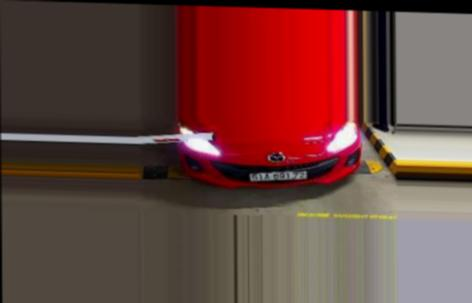License_Plate: (246, 168, 308, 183)
